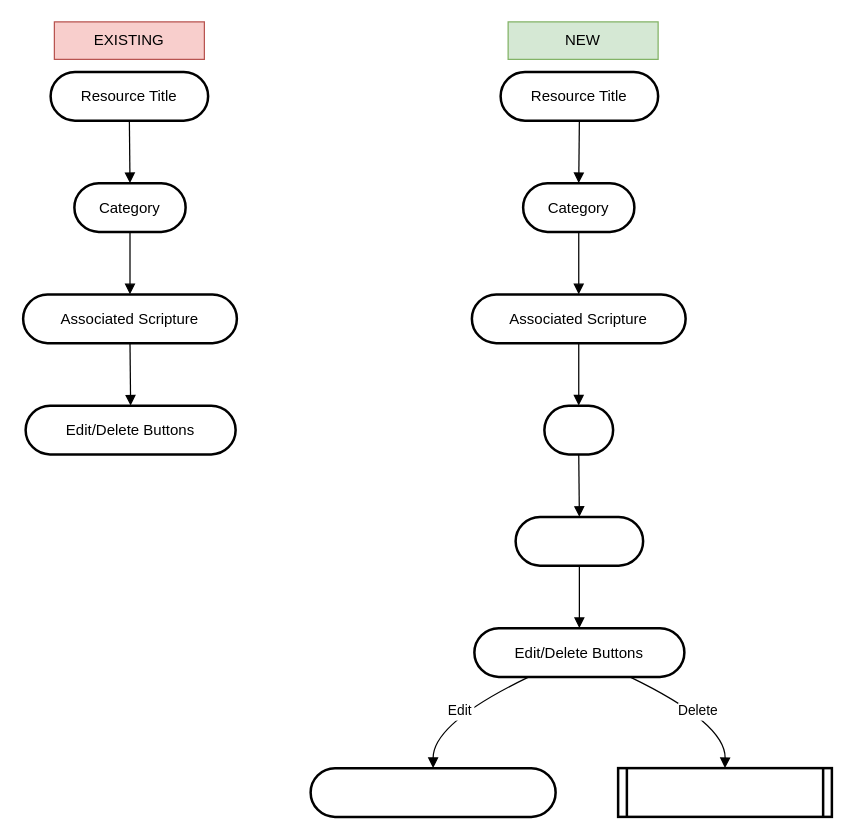
Some shapes in this 854 by 840 pixel diagram are drawn without their labels. Here are the shapes that lost their labels. From the top down, the centre of each, then its label:
At point 578,429: "Tags".
At point 579,540: "User Notes".
At point 432,792: "Add/Edit Resource Page".
At point 724,792: "Confirmation Modal".
